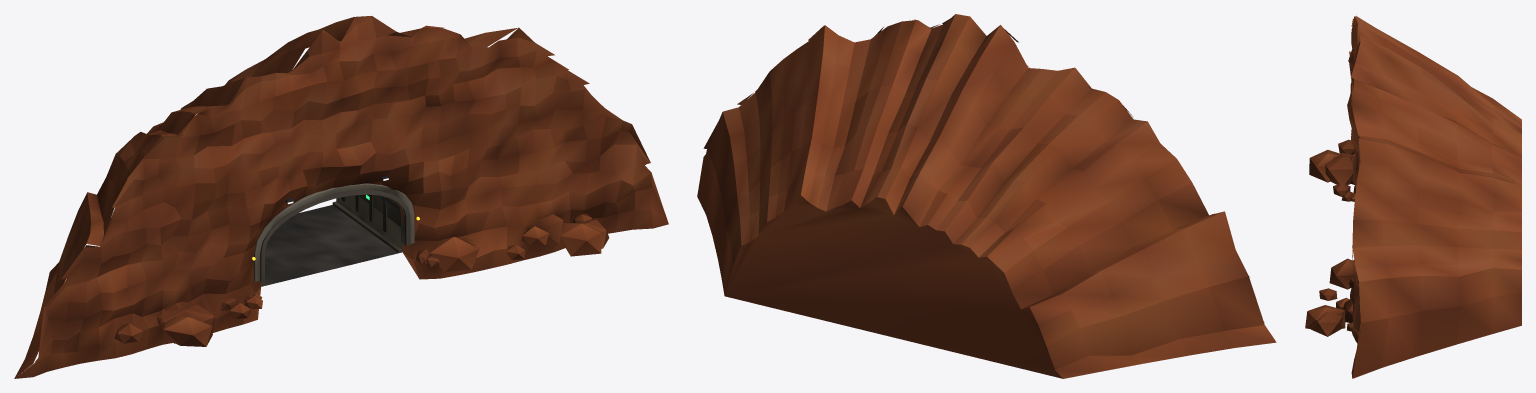
Rendered from tunnel_exit.glb.
3 views of the same model, side by side, from view 1: azimuth 30°, elevation 25°; view 2: azimuth 150°, elevation 25°; view 3: azimuth 270°, elevation 25° (orthographic). The views are drawn at different scales.
Parts seen in each view (by area): view 1: rock_red, road_surface, concrete, concrete_dark; view 2: rock_red; view 3: rock_red.
Part boxes in pixels (box(x1,y1,x2,y2)): rock_red: box(14, 16, 668, 378); road_surface: box(262, 205, 398, 285); concrete: box(253, 183, 414, 281); concrete_dark: box(260, 190, 410, 286); rock_red: box(697, 14, 1276, 378); rock_red: box(1305, 16, 1521, 378).
Size of what is drawn, in the model's own units: 68 by 27.93 by 24.57.
